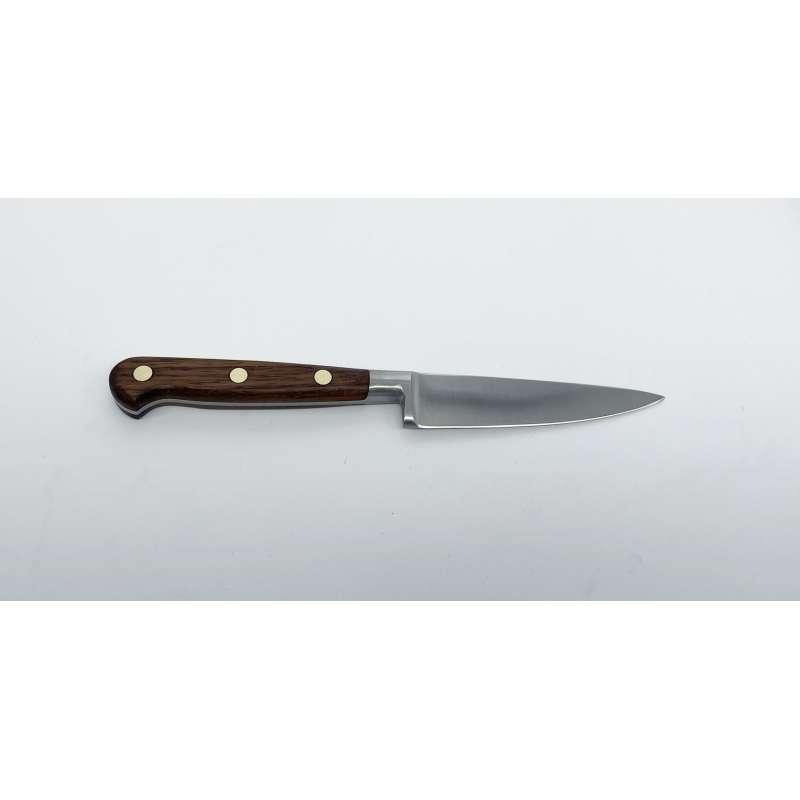Knife: (108, 354, 665, 430)
